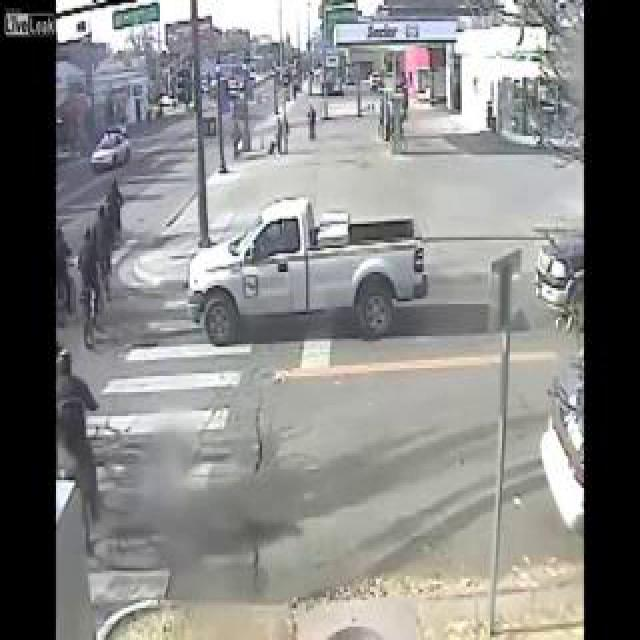road accidents: (88, 87, 262, 640)
